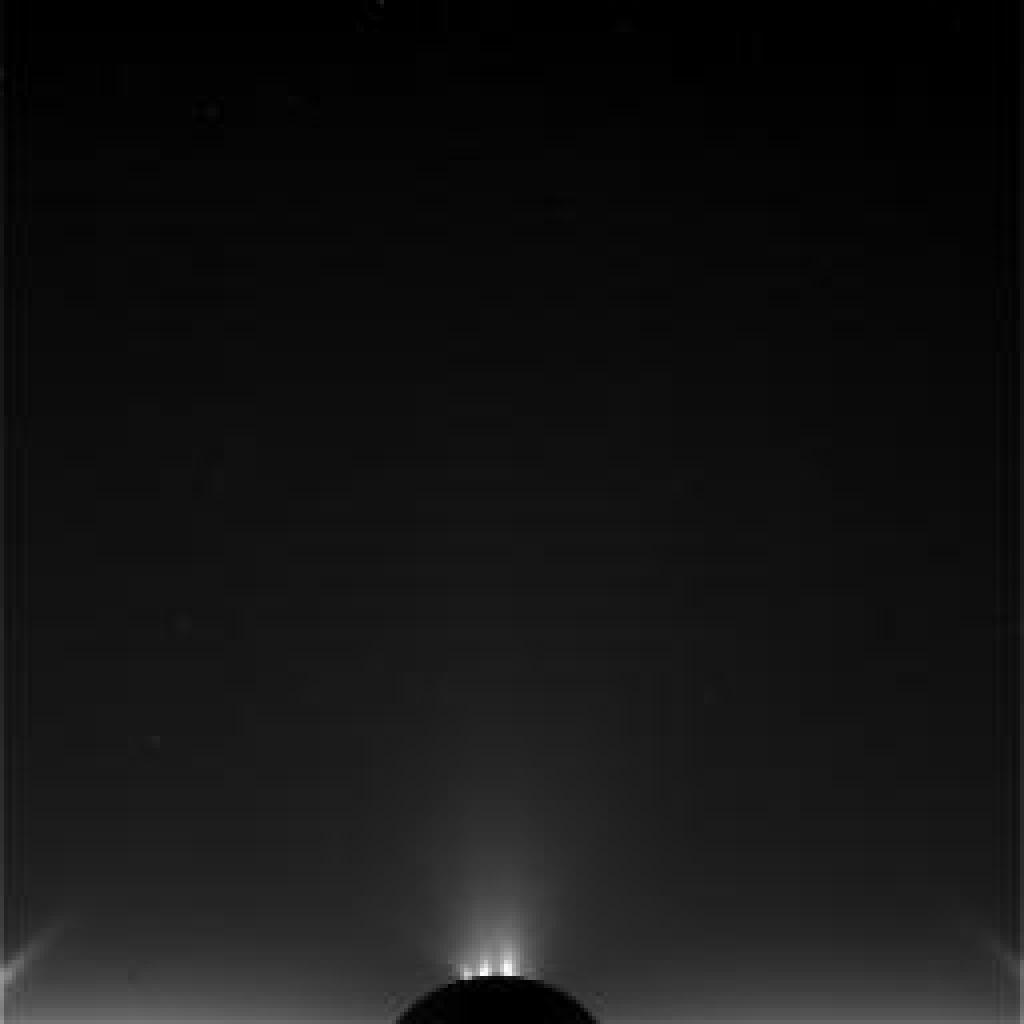plumes: (433, 863, 533, 989)
